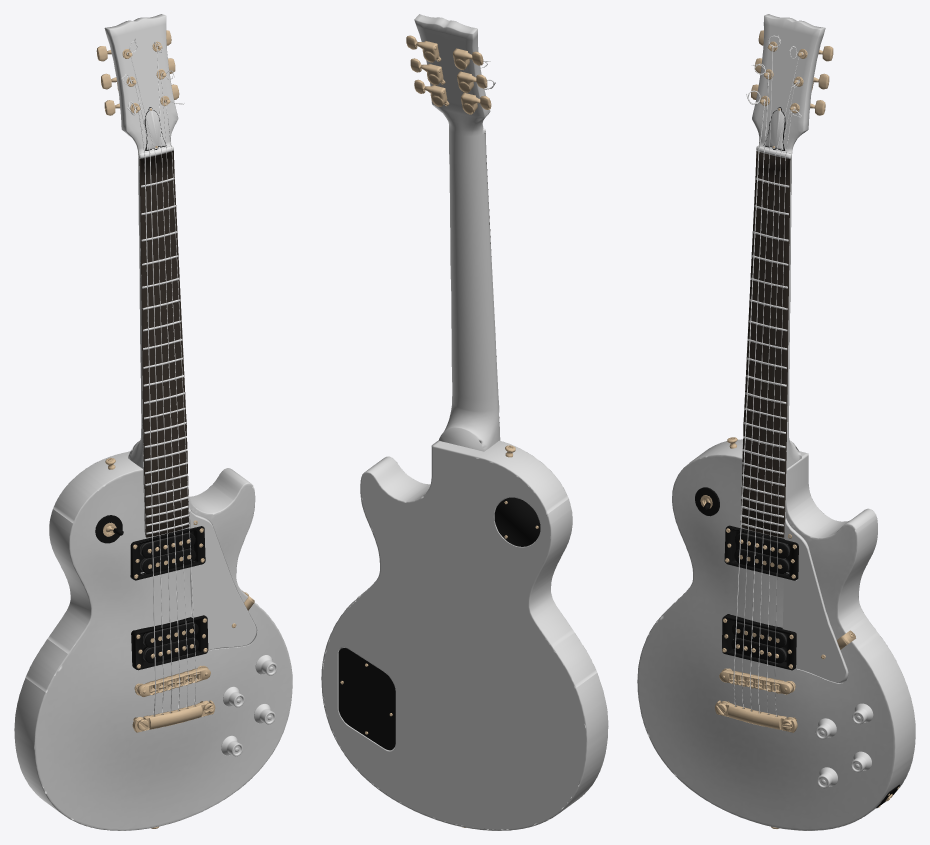
File: lespaul-transformed.glb
3 renders of one model, left to right at view 1: azimuth 30°, elevation 25°; view 2: azimuth 150°, elevation 25°; view 3: azimuth 330°, elevation 25°, orthographic. The views are drawn at different scales.
Parts seen in each view (by area): view 1: Generic Les Paul; view 2: Generic Les Paul; view 3: Generic Les Paul.
Boxes of the visible parts, bbox=[...] form: Generic Les Paul: bbox=[14, 14, 292, 830]; Generic Les Paul: bbox=[321, 14, 608, 830]; Generic Les Paul: bbox=[637, 14, 915, 830].
Size of the model in its own units: 0.2127 by 0.6253 by 0.0642.
